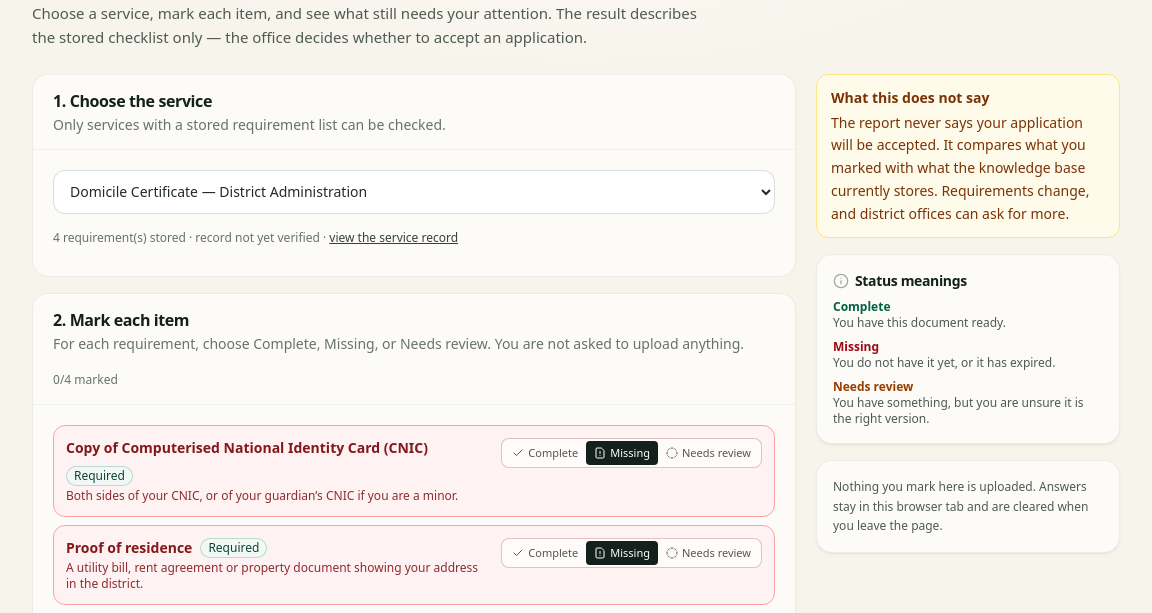
Test: Readiness checker › renders the three-way checklist and a summary
Expected: the text "Copy of Computerised National Identity Card (CNIC)" is shown, [66,438,428,458]
Click the 1st button "Complete" at (545, 453), box [504,441,586,465]
(page scrolled)
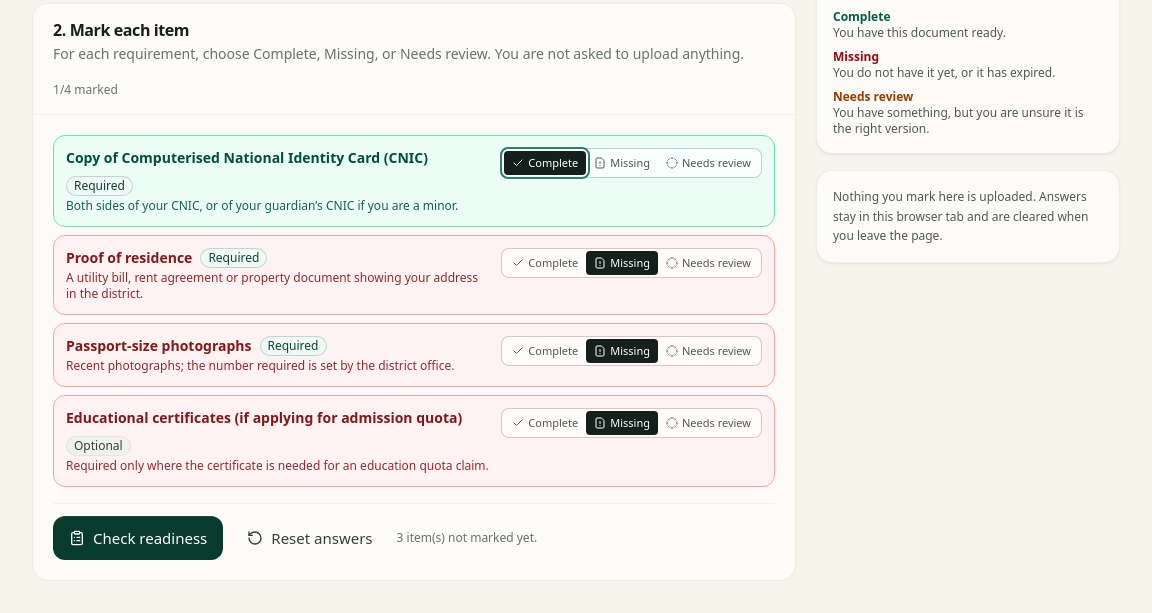
Click the button "Check readiness" at (138, 538), box [53,516,223,560]
(page scrolled)
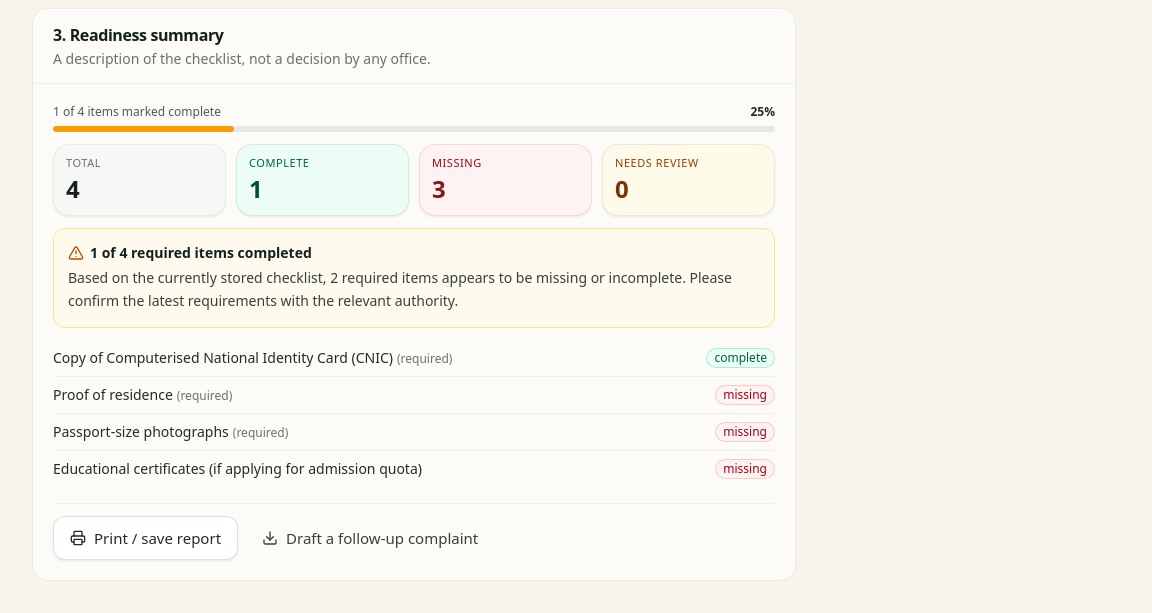
Result: the text "1 of 4 required items completed" is shown at [68,243,312,262]
Result: the text "confirm the latest requirements with the relevant authority" is shown at [68,268,732,310]
